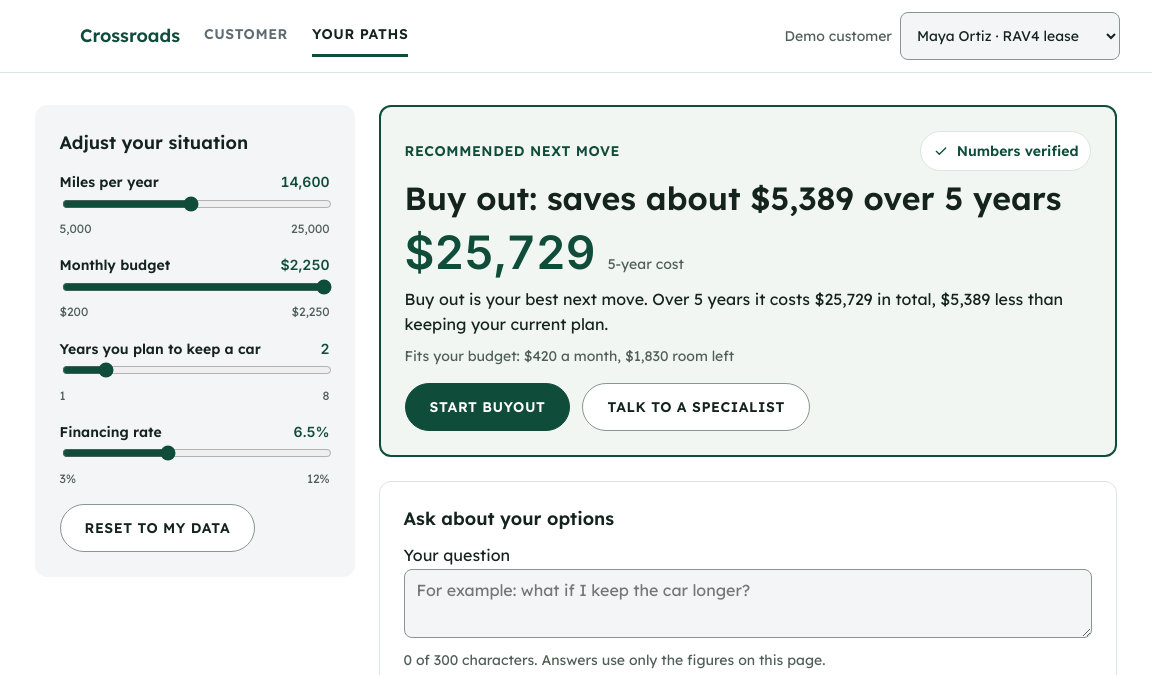
Test: Your paths sliders › returns to the customer's own data when reset
Set the slider labelled "Miles per year" to "20000" at (260, 204), box 62,196 -> 332,212
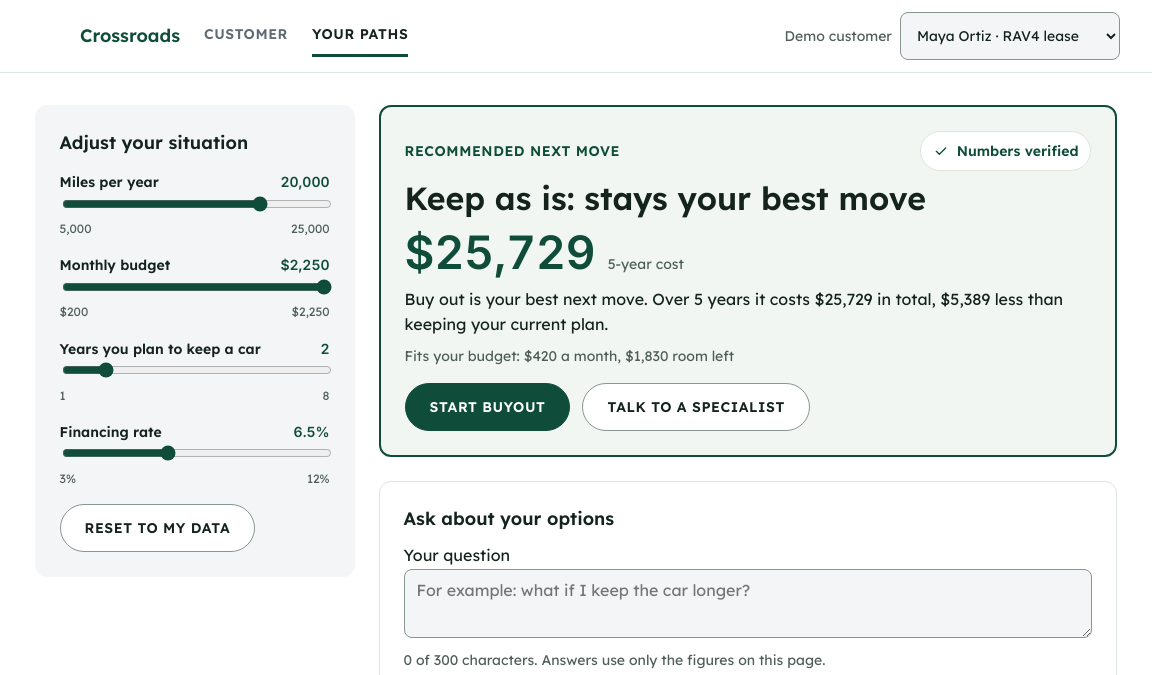
expect the heading "Keep as is: stays your best move" is shown: met, box 404,178 -> 926,218
Click the button "Reset to my data".
click(157, 528)  # box 60,504 -> 255,552
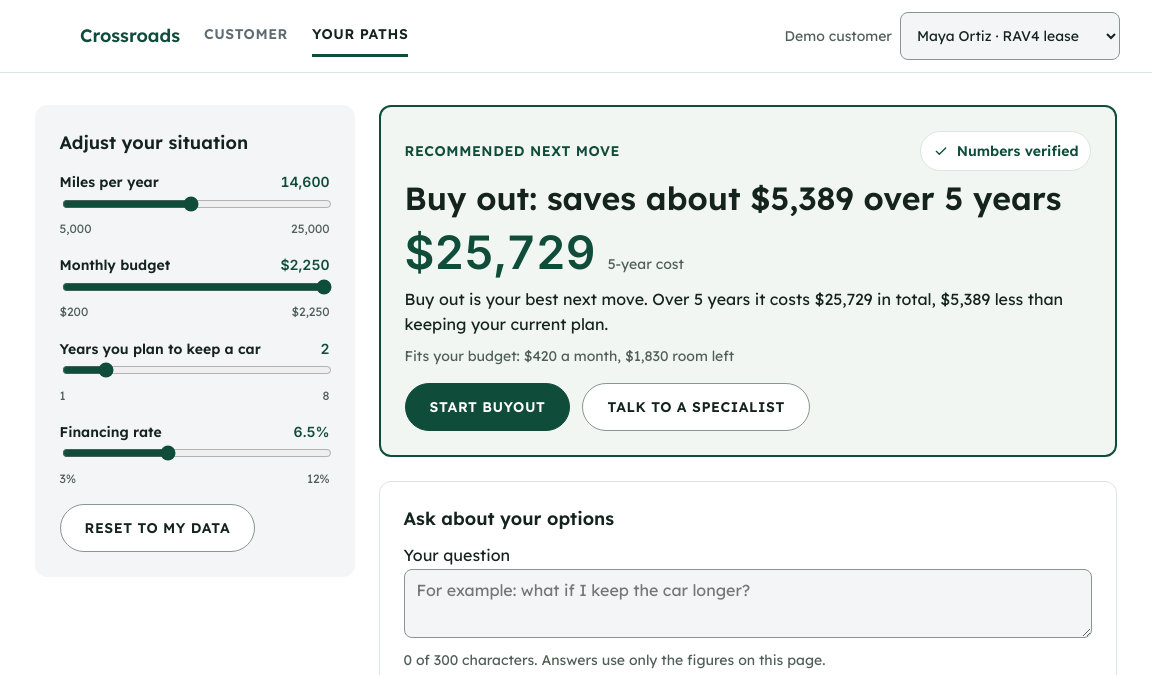
expect the heading "Buy out: saves about $5,389 over 5 years" is shown: met, box 404,179 -> 1091,218
expect the slider labelled "Miles per year" holds "14600": met, box 62,196 -> 332,212
